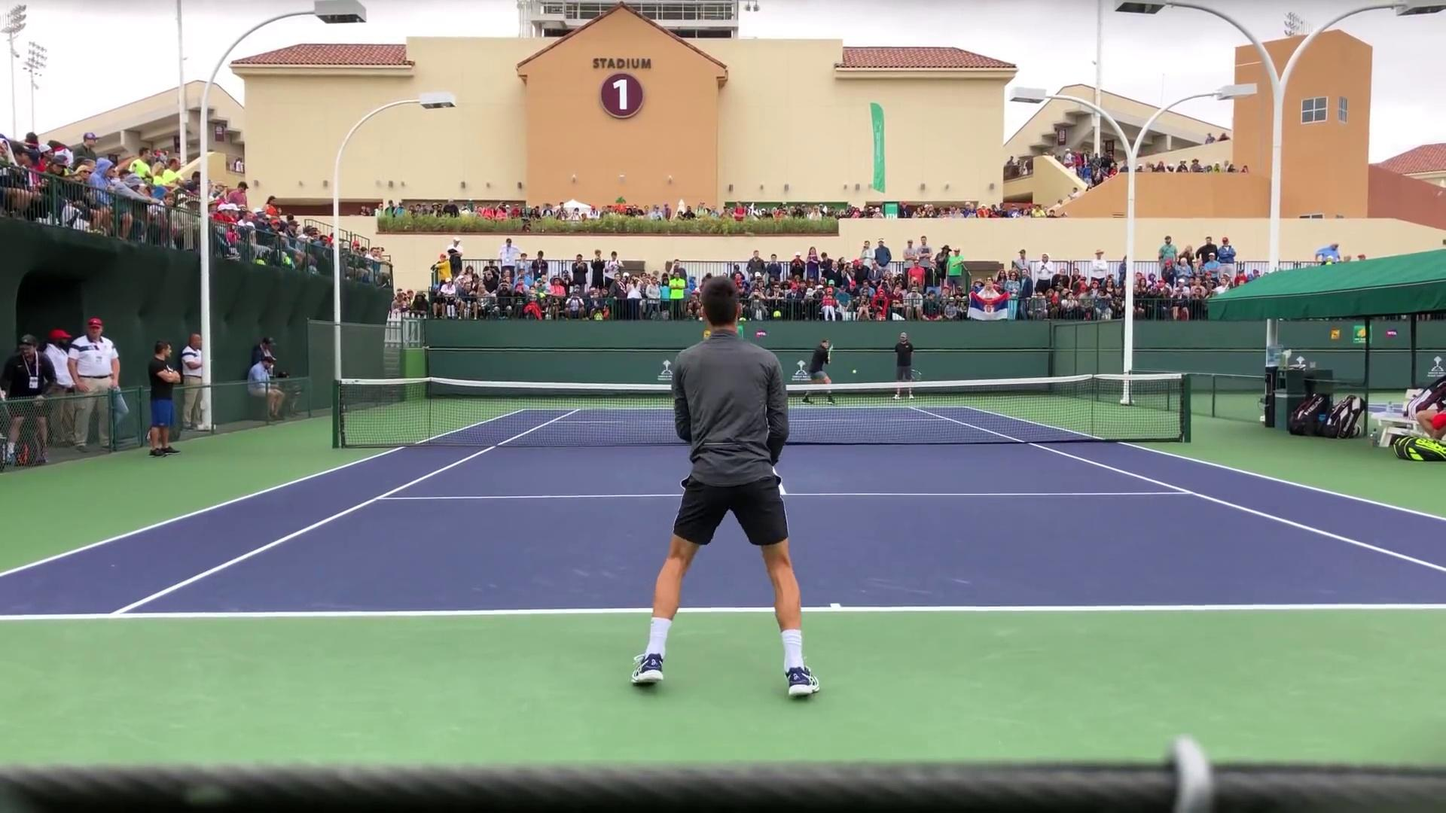ball: (853, 368, 859, 374)
